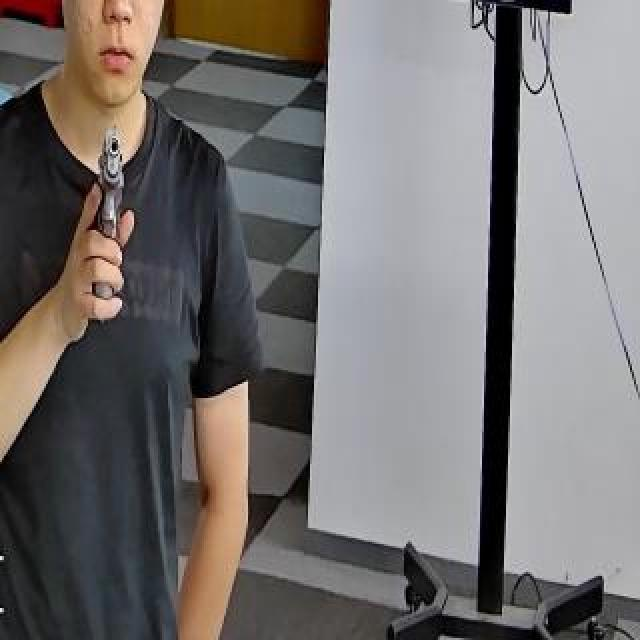Guns: (69, 113, 158, 333)
